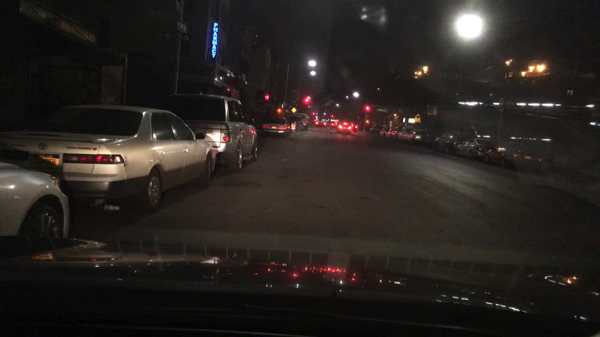car: (0, 103, 217, 214), (147, 94, 259, 172), (0, 156, 73, 243), (483, 140, 543, 171), (454, 136, 495, 160), (430, 132, 465, 156), (260, 117, 293, 137), (408, 128, 433, 146), (396, 124, 416, 142), (287, 116, 305, 132), (337, 121, 353, 133), (297, 114, 309, 128), (385, 127, 399, 138), (377, 126, 389, 136), (315, 118, 325, 128), (330, 121, 339, 129), (351, 123, 359, 132), (369, 125, 379, 132), (325, 119, 331, 127)
traffic light: (304, 97, 308, 104), (330, 113, 334, 119), (365, 104, 368, 111), (312, 111, 315, 116)
traffic sign: (162, 30, 190, 43), (152, 10, 177, 21), (163, 0, 182, 11), (176, 19, 190, 30), (414, 113, 420, 123), (291, 106, 296, 113)
